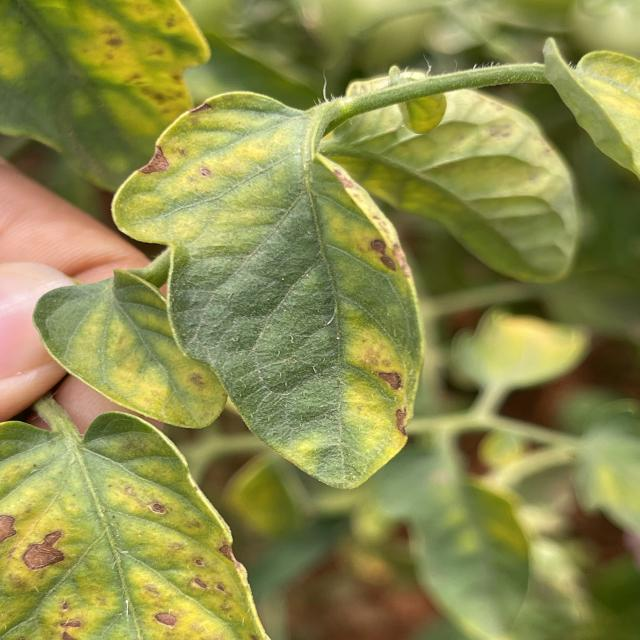tomato_early blight: (114, 89, 423, 490), (0, 411, 267, 640), (0, 0, 216, 210), (40, 267, 233, 429)
